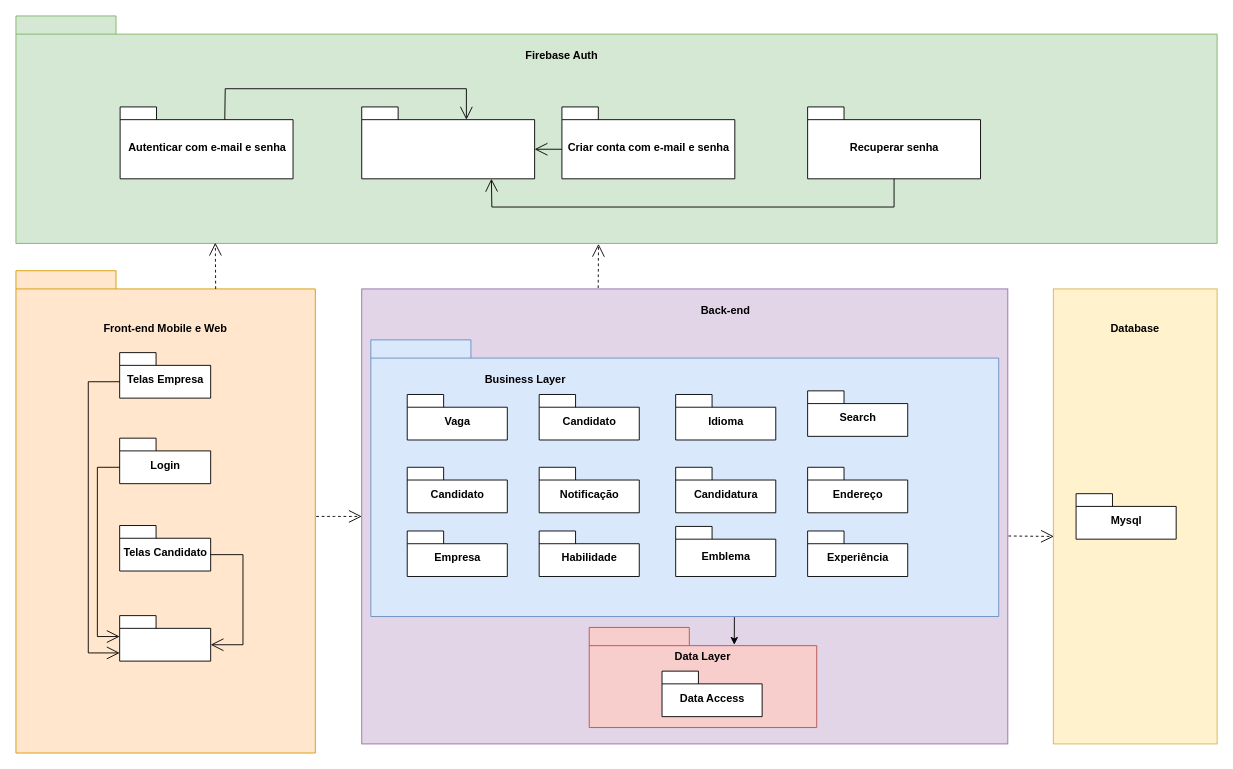
The diagram is 1233 pixels wide and 769 high, and some of its shapes have lost their labels. Each missing label, with the centre of its shape:
"Instanciar SDK do Firebase" belongs at (x=448, y=142).
"Services" belongs at (x=165, y=638).
